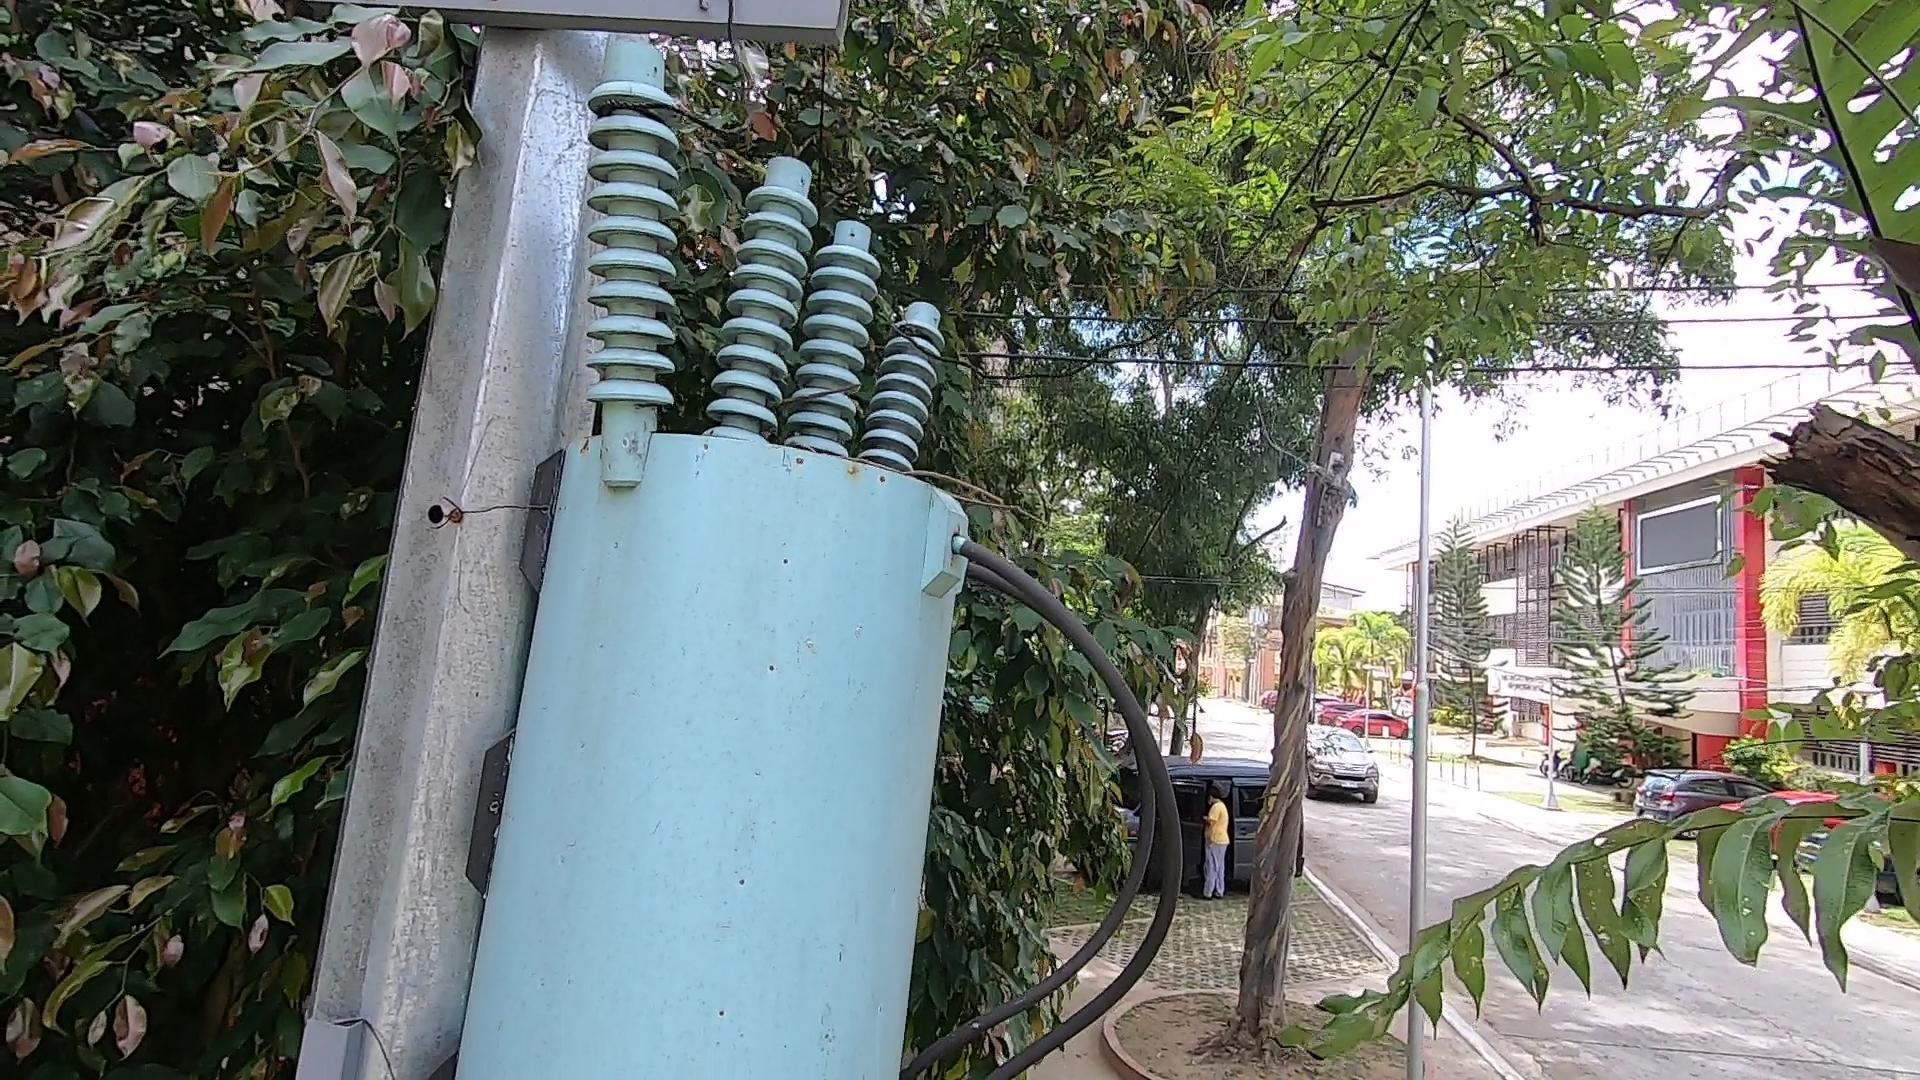tree branch: (770, 425, 1095, 562)
